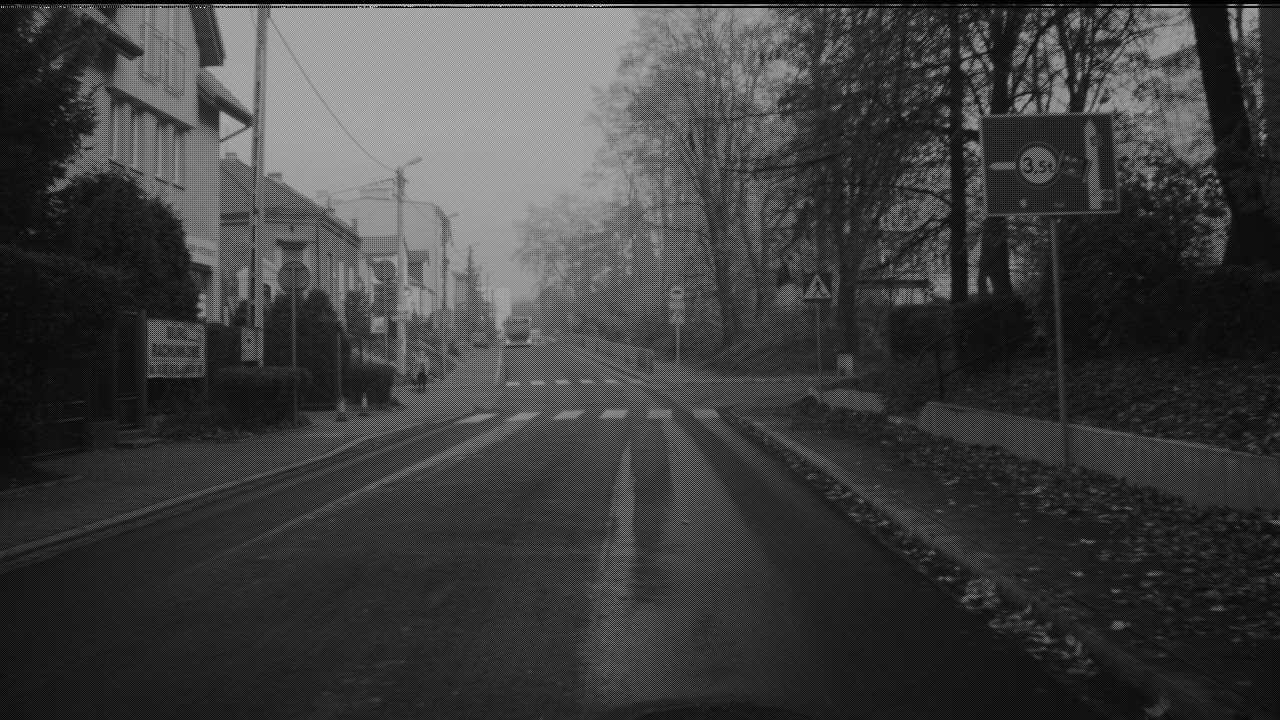pole: (248, 1, 268, 355), (396, 159, 406, 366)
